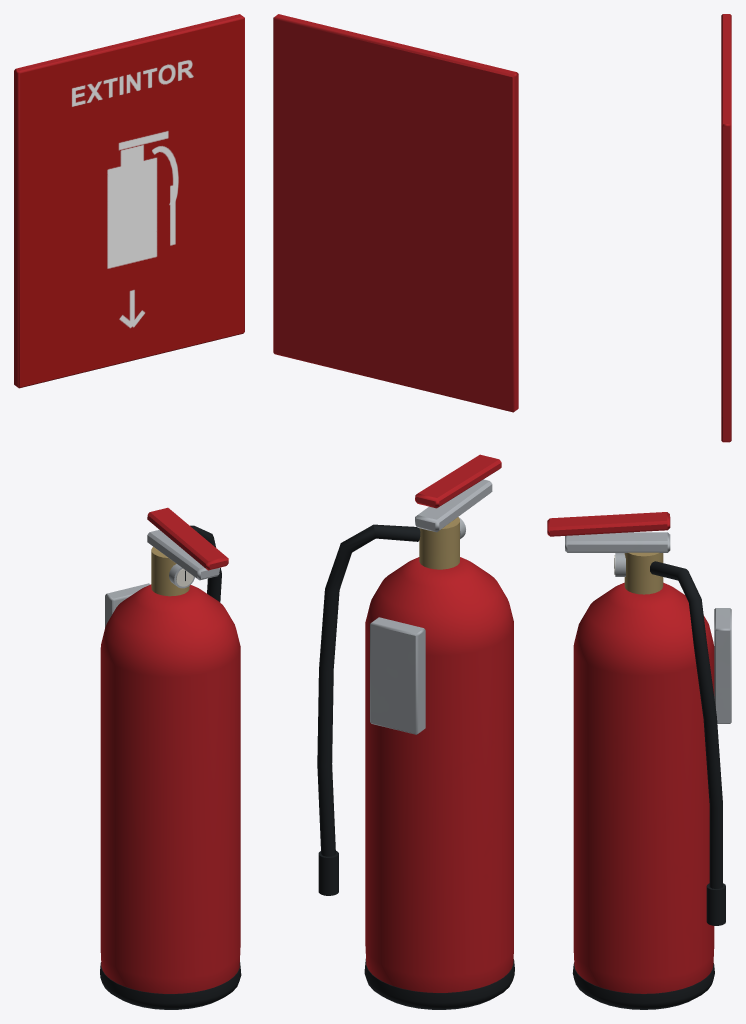
Rendered from extintor_realista.glb.
3 views of the same model, side by side, from view 1: azimuth 30°, elevation 25°; view 2: azimuth 150°, elevation 25°; view 3: azimuth 270°, elevation 25° (orthographic). The views are drawn at different scales.
Parts seen in each view (by area): view 1: Extintor_Com_Placa_PBR; view 2: Extintor_Com_Placa_PBR; view 3: Extintor_Com_Placa_PBR.
Boxes of the visible parts, x1=… form: Extintor_Com_Placa_PBR: x1=14, y1=14, x2=244, y2=1009; Extintor_Com_Placa_PBR: x1=273, y1=14, x2=518, y2=1009; Extintor_Com_Placa_PBR: x1=547, y1=14, x2=731, y2=1009.
Bounding box in the file's own units: 0.3 × 1.15 × 0.2101.
Materials: 1 (1 with a texture image).
